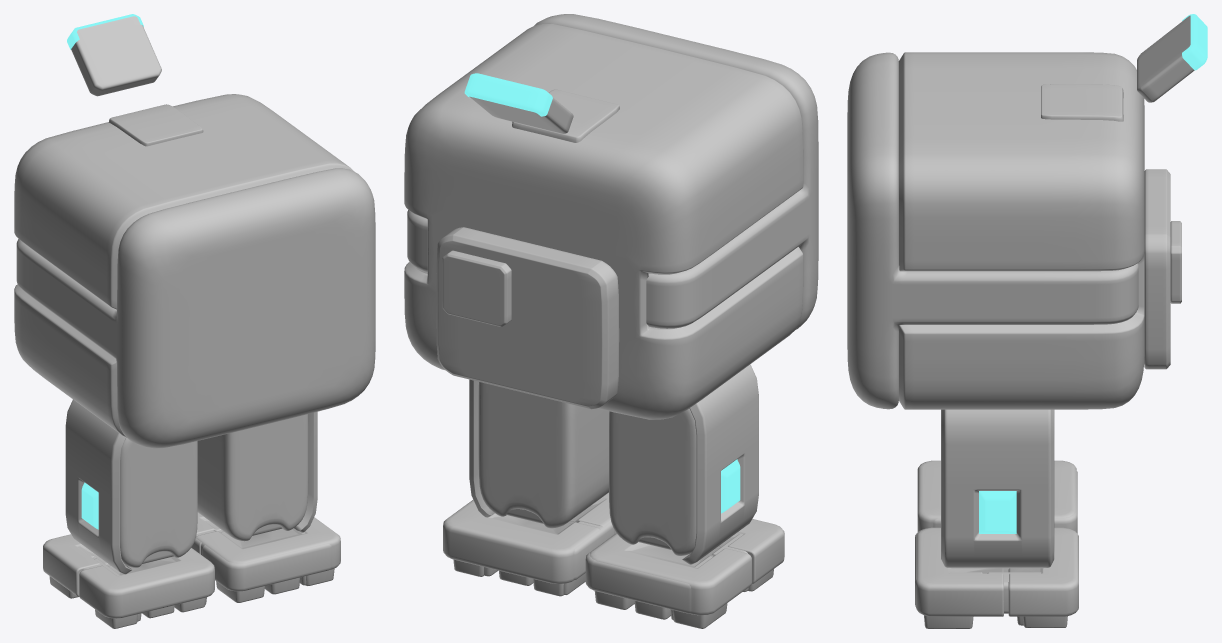
File: enemy.fbx
3 views of the same model, side by side, from view 1: azimuth 30°, elevation 25°; view 2: azimuth 150°, elevation 25°; view 3: azimuth 270°, elevation 25° (orthographic). The views are drawn at different scales.
Visible parts, largest first — view 1: head.001, leg_1.002, leg.002; view 2: head.001, leg_1.002, leg.002; view 3: head.001, leg.002, leg_1.002.
Boxes of the visible parts, x1,y1,x2,y2 form: head.001: (14,14,375,448); leg_1.002: (43,399,214,628); leg.002: (191,411,340,602); head.001: (404,14,818,419); leg_1.002: (585,364,784,628); leg.002: (443,379,616,596); head.001: (847,14,1207,409); leg.002: (915,409,1078,628); leg_1.002: (917,460,1077,533).
Size of the model in its own units: 41.4 by 77.89 by 46.82.
